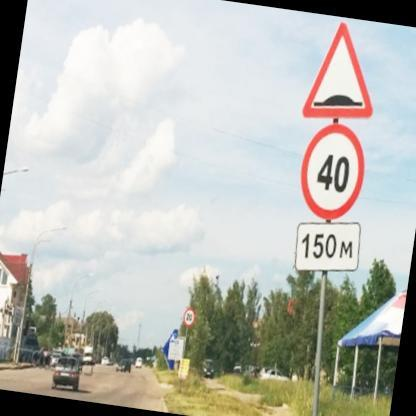road_sign: (302, 22, 372, 122), (301, 123, 364, 219), (295, 223, 359, 271), (182, 306, 195, 327)
